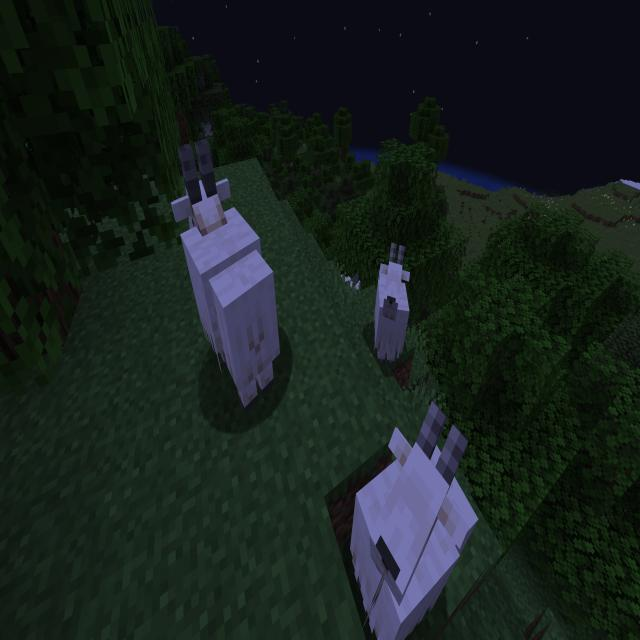Goat: (348, 397, 480, 640), (170, 136, 283, 412), (371, 239, 411, 368)
